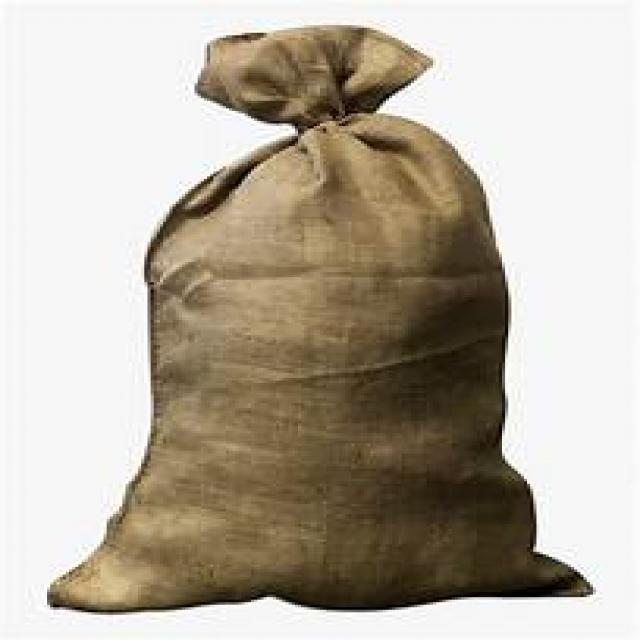gunny_bag: (37, 19, 600, 620)
